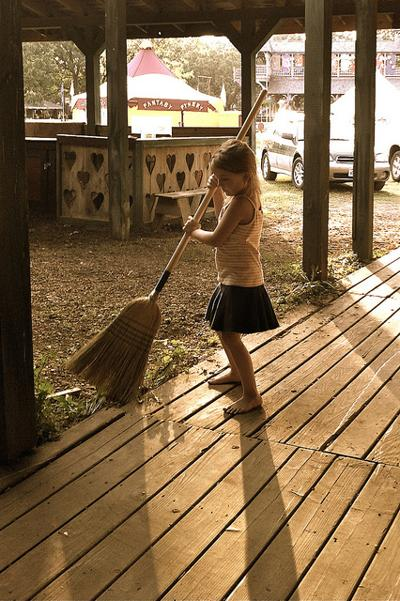person: (184, 146, 278, 414)
